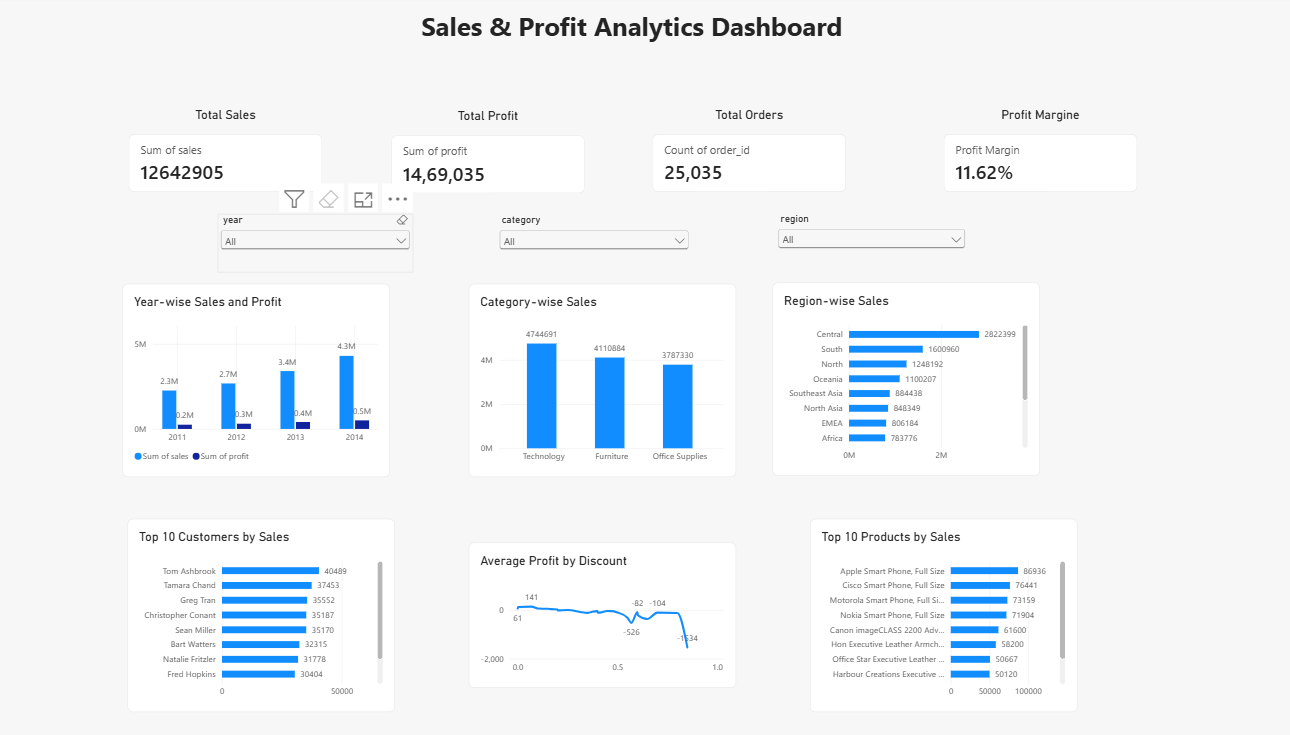

The dashboard page shown, as its layout file describes it:
{"tool":"powerbi","page":{"name":"Page 1","canvas":[1920,1080],"ordinal":0},"visuals":[{"type":"cardVisual","title":"Total Sales","fields":{"Data":["Sum(SuperStoreOrders_Cleaned.sales)"]},"box":[200,162.5,280,122.5],"z":0},{"type":"cardVisual","title":"Total Profit","fields":{"Data":["Sum(SuperStoreOrders_Cleaned.profit)"]},"box":[580,165,280,122.5],"z":1000},{"type":"cardVisual","title":"Total Orders","fields":{"Data":["Count(SuperStoreOrders_Cleaned.order_id)"]},"box":[960,162.5,280,122.5],"z":2000},{"type":"cardVisual","title":"Profit Margine","fields":{"Data":["SuperStoreOrders_Cleaned.Profit Margin"]},"box":[1380,162.5,280,122.5],"z":3000},{"type":"clusteredColumnChart","title":"Year-wise Sales and Profit","fields":{"Category":["SuperStoreOrders_Cleaned.year"],"Y":["Sum(SuperStoreOrders_Cleaned.sales)","Sum(SuperStoreOrders_Cleaned.profit)"]},"box":[192.5,417.5,387,280],"z":4000},{"type":"clusteredColumnChart","title":"Category-wise Sales","fields":{"Category":["SuperStoreOrders_Cleaned.category"],"Y":["Sum(SuperStoreOrders_Cleaned.sales)"]},"box":[692.5,417.5,387,280],"z":5000},{"type":"clusteredBarChart","title":"Region-wise Sales","fields":{"Category":["SuperStoreOrders_Cleaned.region"],"Y":["Sum(SuperStoreOrders_Cleaned.sales)"]},"box":[1133.5,416.4,387,280],"z":6000},{"type":"lineChart","title":"Average Profit by Discount","fields":{"Category":["SuperStoreOrders_Cleaned.discount"],"Y":["SuperStoreOrders_Cleaned.Average Profit"]},"box":[692.5,792.5,387,210],"z":7000},{"type":"clusteredBarChart","title":"Top 10 Customers by Sales","fields":{"Category":["SuperStoreOrders_Cleaned.customer_name"],"Y":["Sum(SuperStoreOrders_Cleaned.sales)"]},"box":[199.5,757.6,387,280],"z":8000},{"type":"clusteredBarChart","title":"Top 10 Products by Sales","fields":{"Category":["SuperStoreOrders_Cleaned.product_name"],"Y":["Sum(SuperStoreOrders_Cleaned.sales)"]},"box":[1187.5,757.5,387,280],"z":9000},{"type":"slicer","fields":{"Values":["SuperStoreOrders_Cleaned.region"]},"box":[1137.3,315.5,280,88.3],"z":10000},{"type":"slicer","fields":{"Values":["SuperStoreOrders_Cleaned.year"]},"box":[330,316.4,283.6,84.5],"z":11000},{"type":"slicer","fields":{"Values":["SuperStoreOrders_Cleaned.category"]},"box":[732.7,316.4,283.3,70],"z":12000},{"type":"textbox","box":[425,20,1007.5,75],"z":13000}]}

Visuals, with their boxes in screenshot pixels (x1, y1, x2, y2), scaled from the page's 1920x1080 canvas onto the 1290x735 screenshot:
"Total Sales" cardVisual: bbox(134, 111, 322, 194)
"Total Profit" cardVisual: bbox(390, 112, 578, 196)
"Total Orders" cardVisual: bbox(645, 111, 833, 194)
"Profit Margine" cardVisual: bbox(927, 111, 1115, 194)
"Year-wise Sales and Profit" clusteredColumnChart: bbox(129, 284, 389, 475)
"Category-wise Sales" clusteredColumnChart: bbox(465, 284, 725, 475)
"Region-wise Sales" clusteredBarChart: bbox(762, 283, 1022, 474)
"Average Profit by Discount" lineChart: bbox(465, 539, 725, 682)
"Top 10 Customers by Sales" clusteredBarChart: bbox(134, 516, 394, 706)
"Top 10 Products by Sales" clusteredBarChart: bbox(798, 516, 1058, 706)
slicer - SuperStoreOrders_Cleaned.region: bbox(764, 215, 952, 275)
slicer - SuperStoreOrders_Cleaned.year: bbox(222, 215, 412, 273)
slicer - SuperStoreOrders_Cleaned.category: bbox(492, 215, 683, 263)
textbox: bbox(286, 14, 962, 65)
